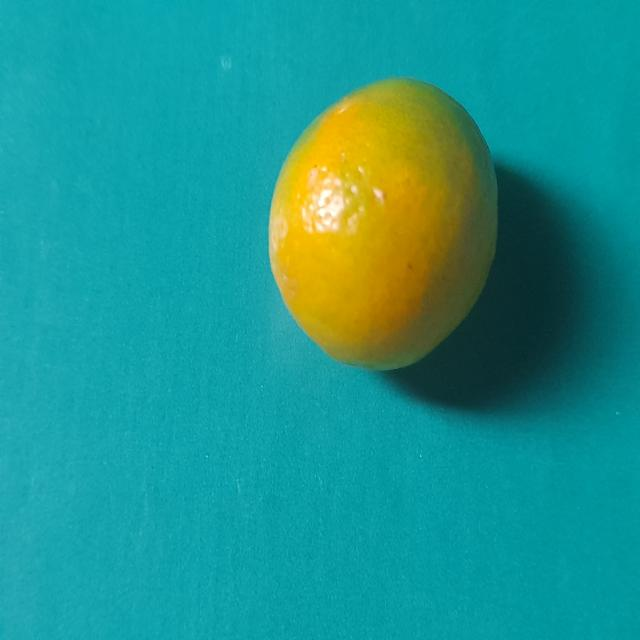greening: (270, 76, 500, 365)
